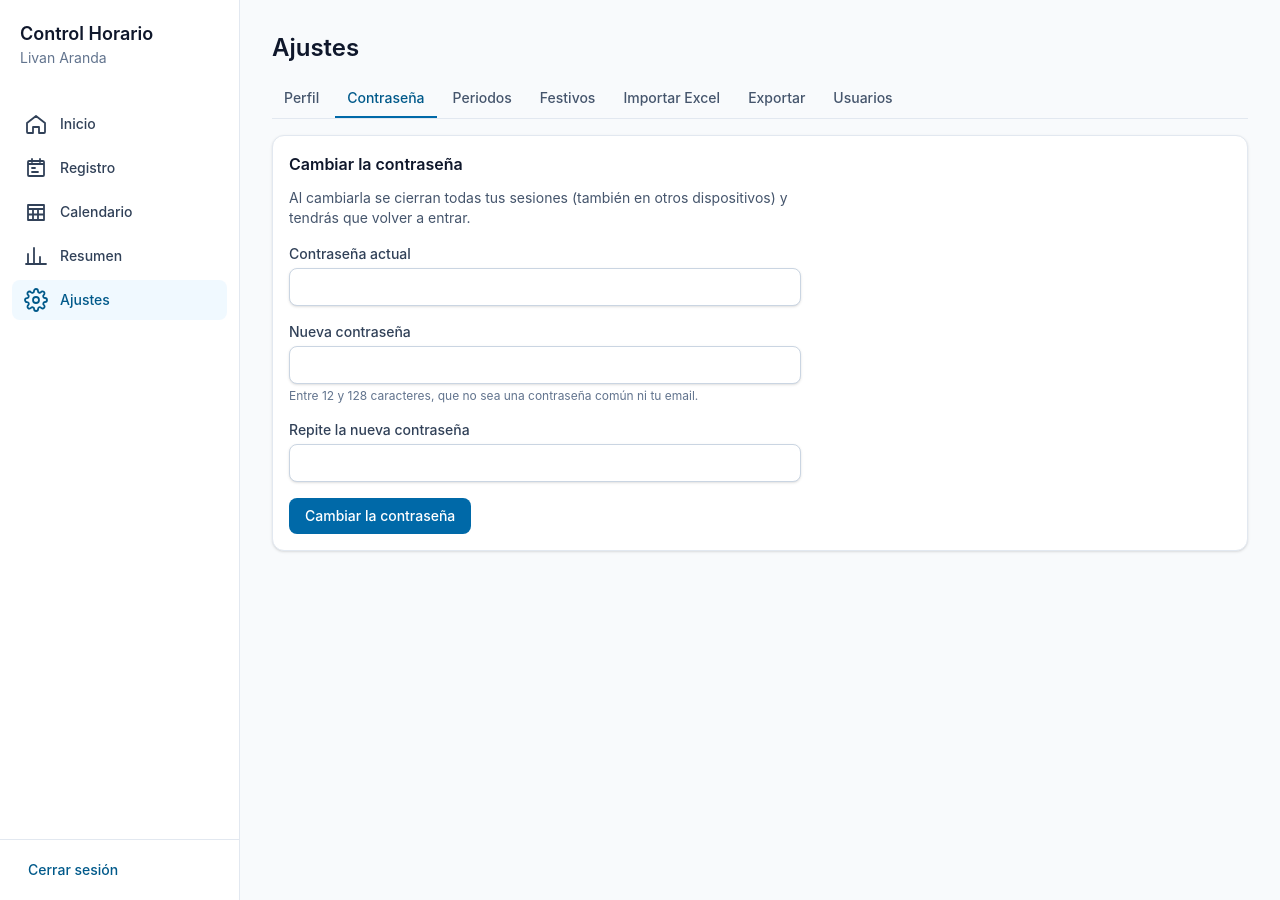
Test: Ajustes › muestra junto al campo el error de contraseña común que devuelve el backend
The width and height of the screenshot is (1280, 900).
Type "la-actual-de-siempre" into the password field labelled "Contraseña actual" at coordinates (545, 287), box [289,268,801,306]
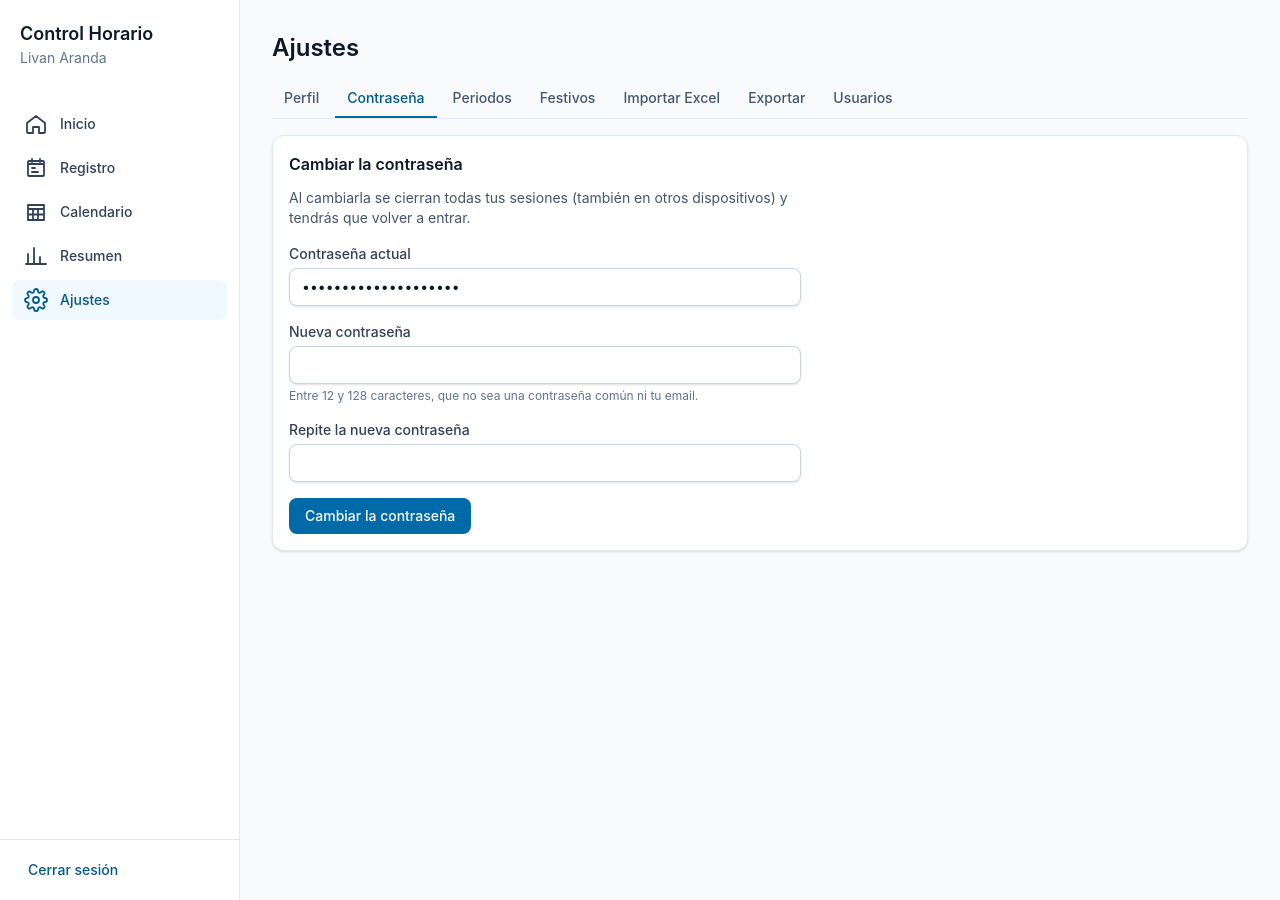
Type "password1234" into the password field labelled "Nueva contraseña" at coordinates (545, 365), box [289,346,801,384]
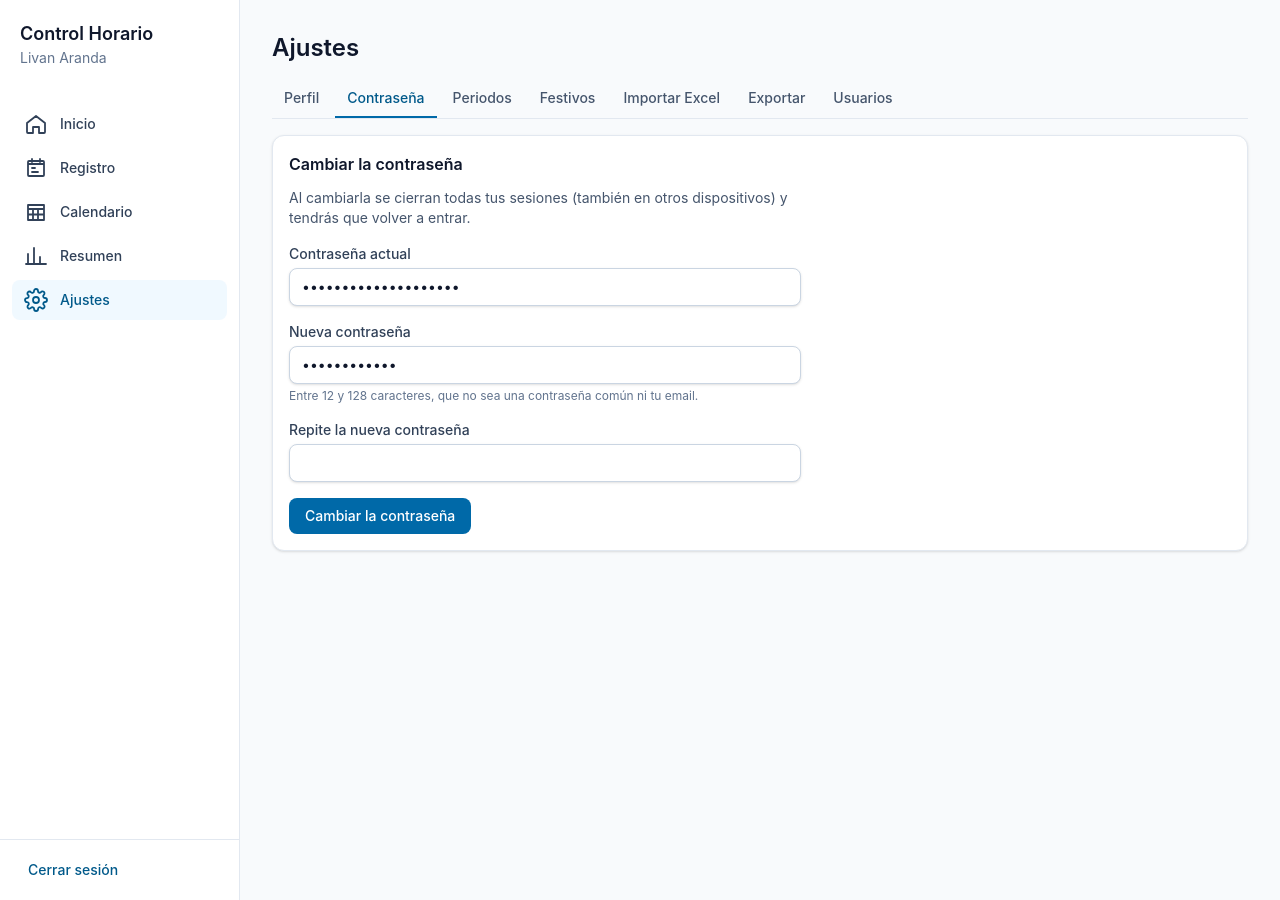
Type "password1234" into the password field labelled "Repite la nueva contraseña" at coordinates (545, 463), box [289,444,801,482]
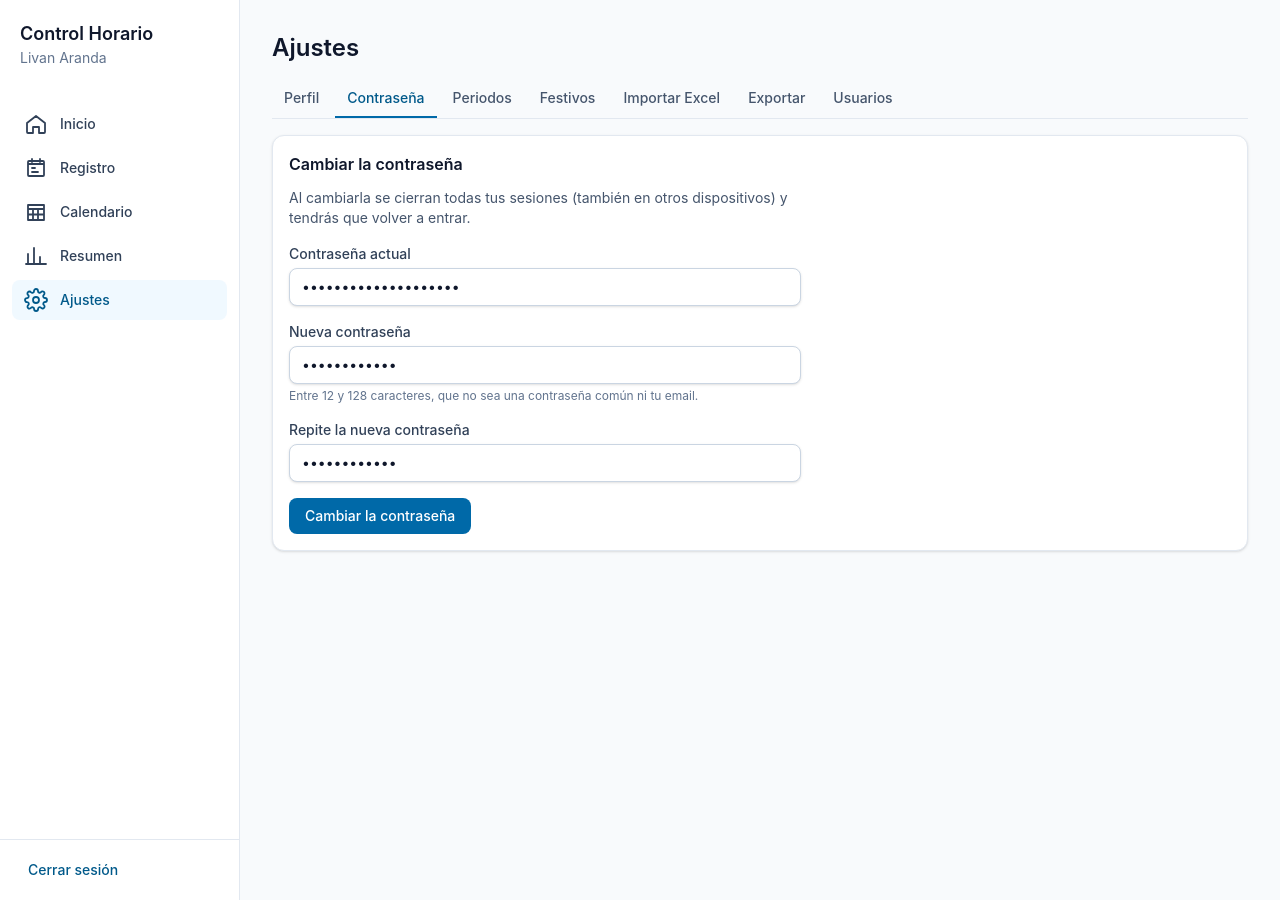
Click the button "Cambiar la contraseña" at coordinates (380, 516), box [289,498,471,534]
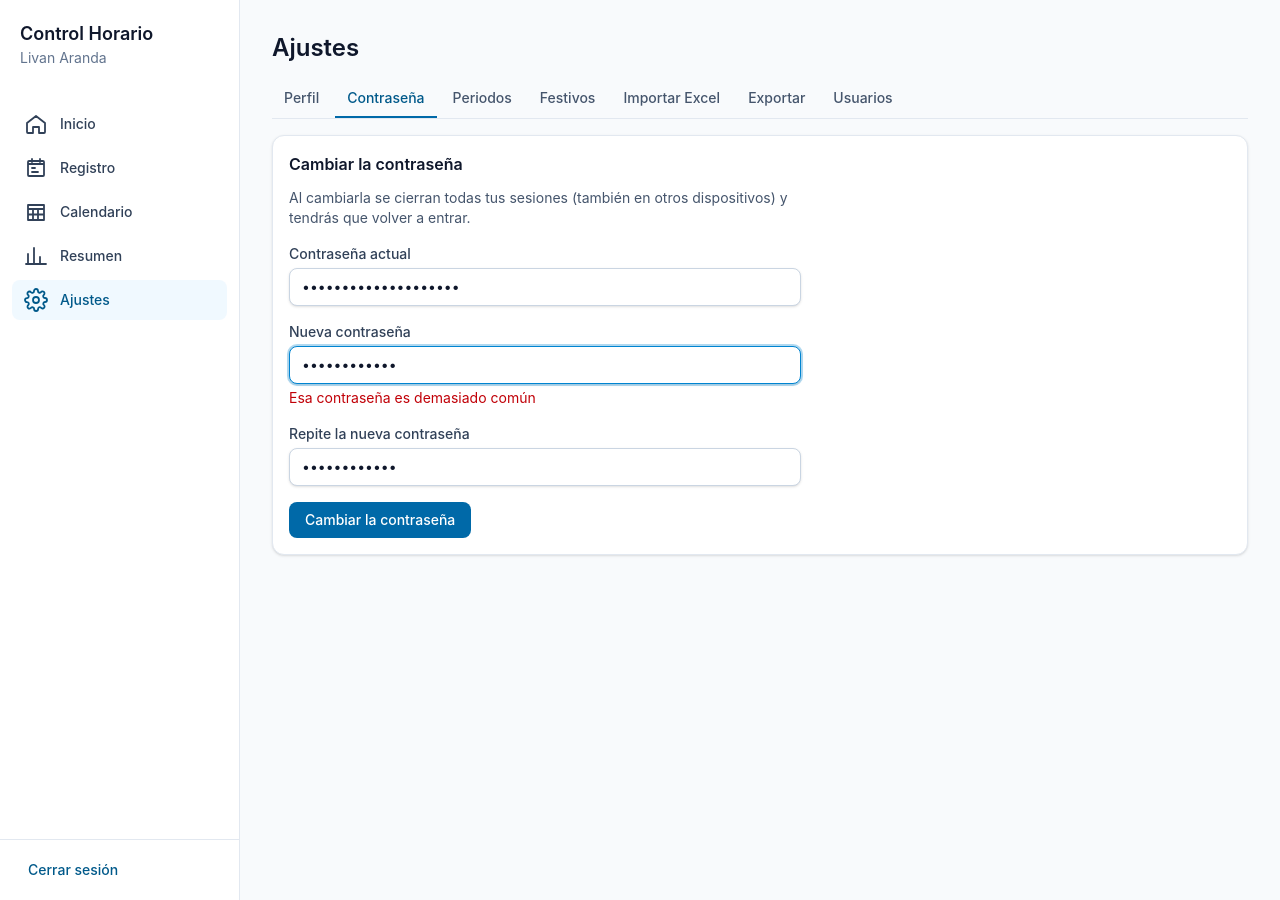
Now the text "Esa contraseña es demasiado común" is shown, box [289,389,536,406]
